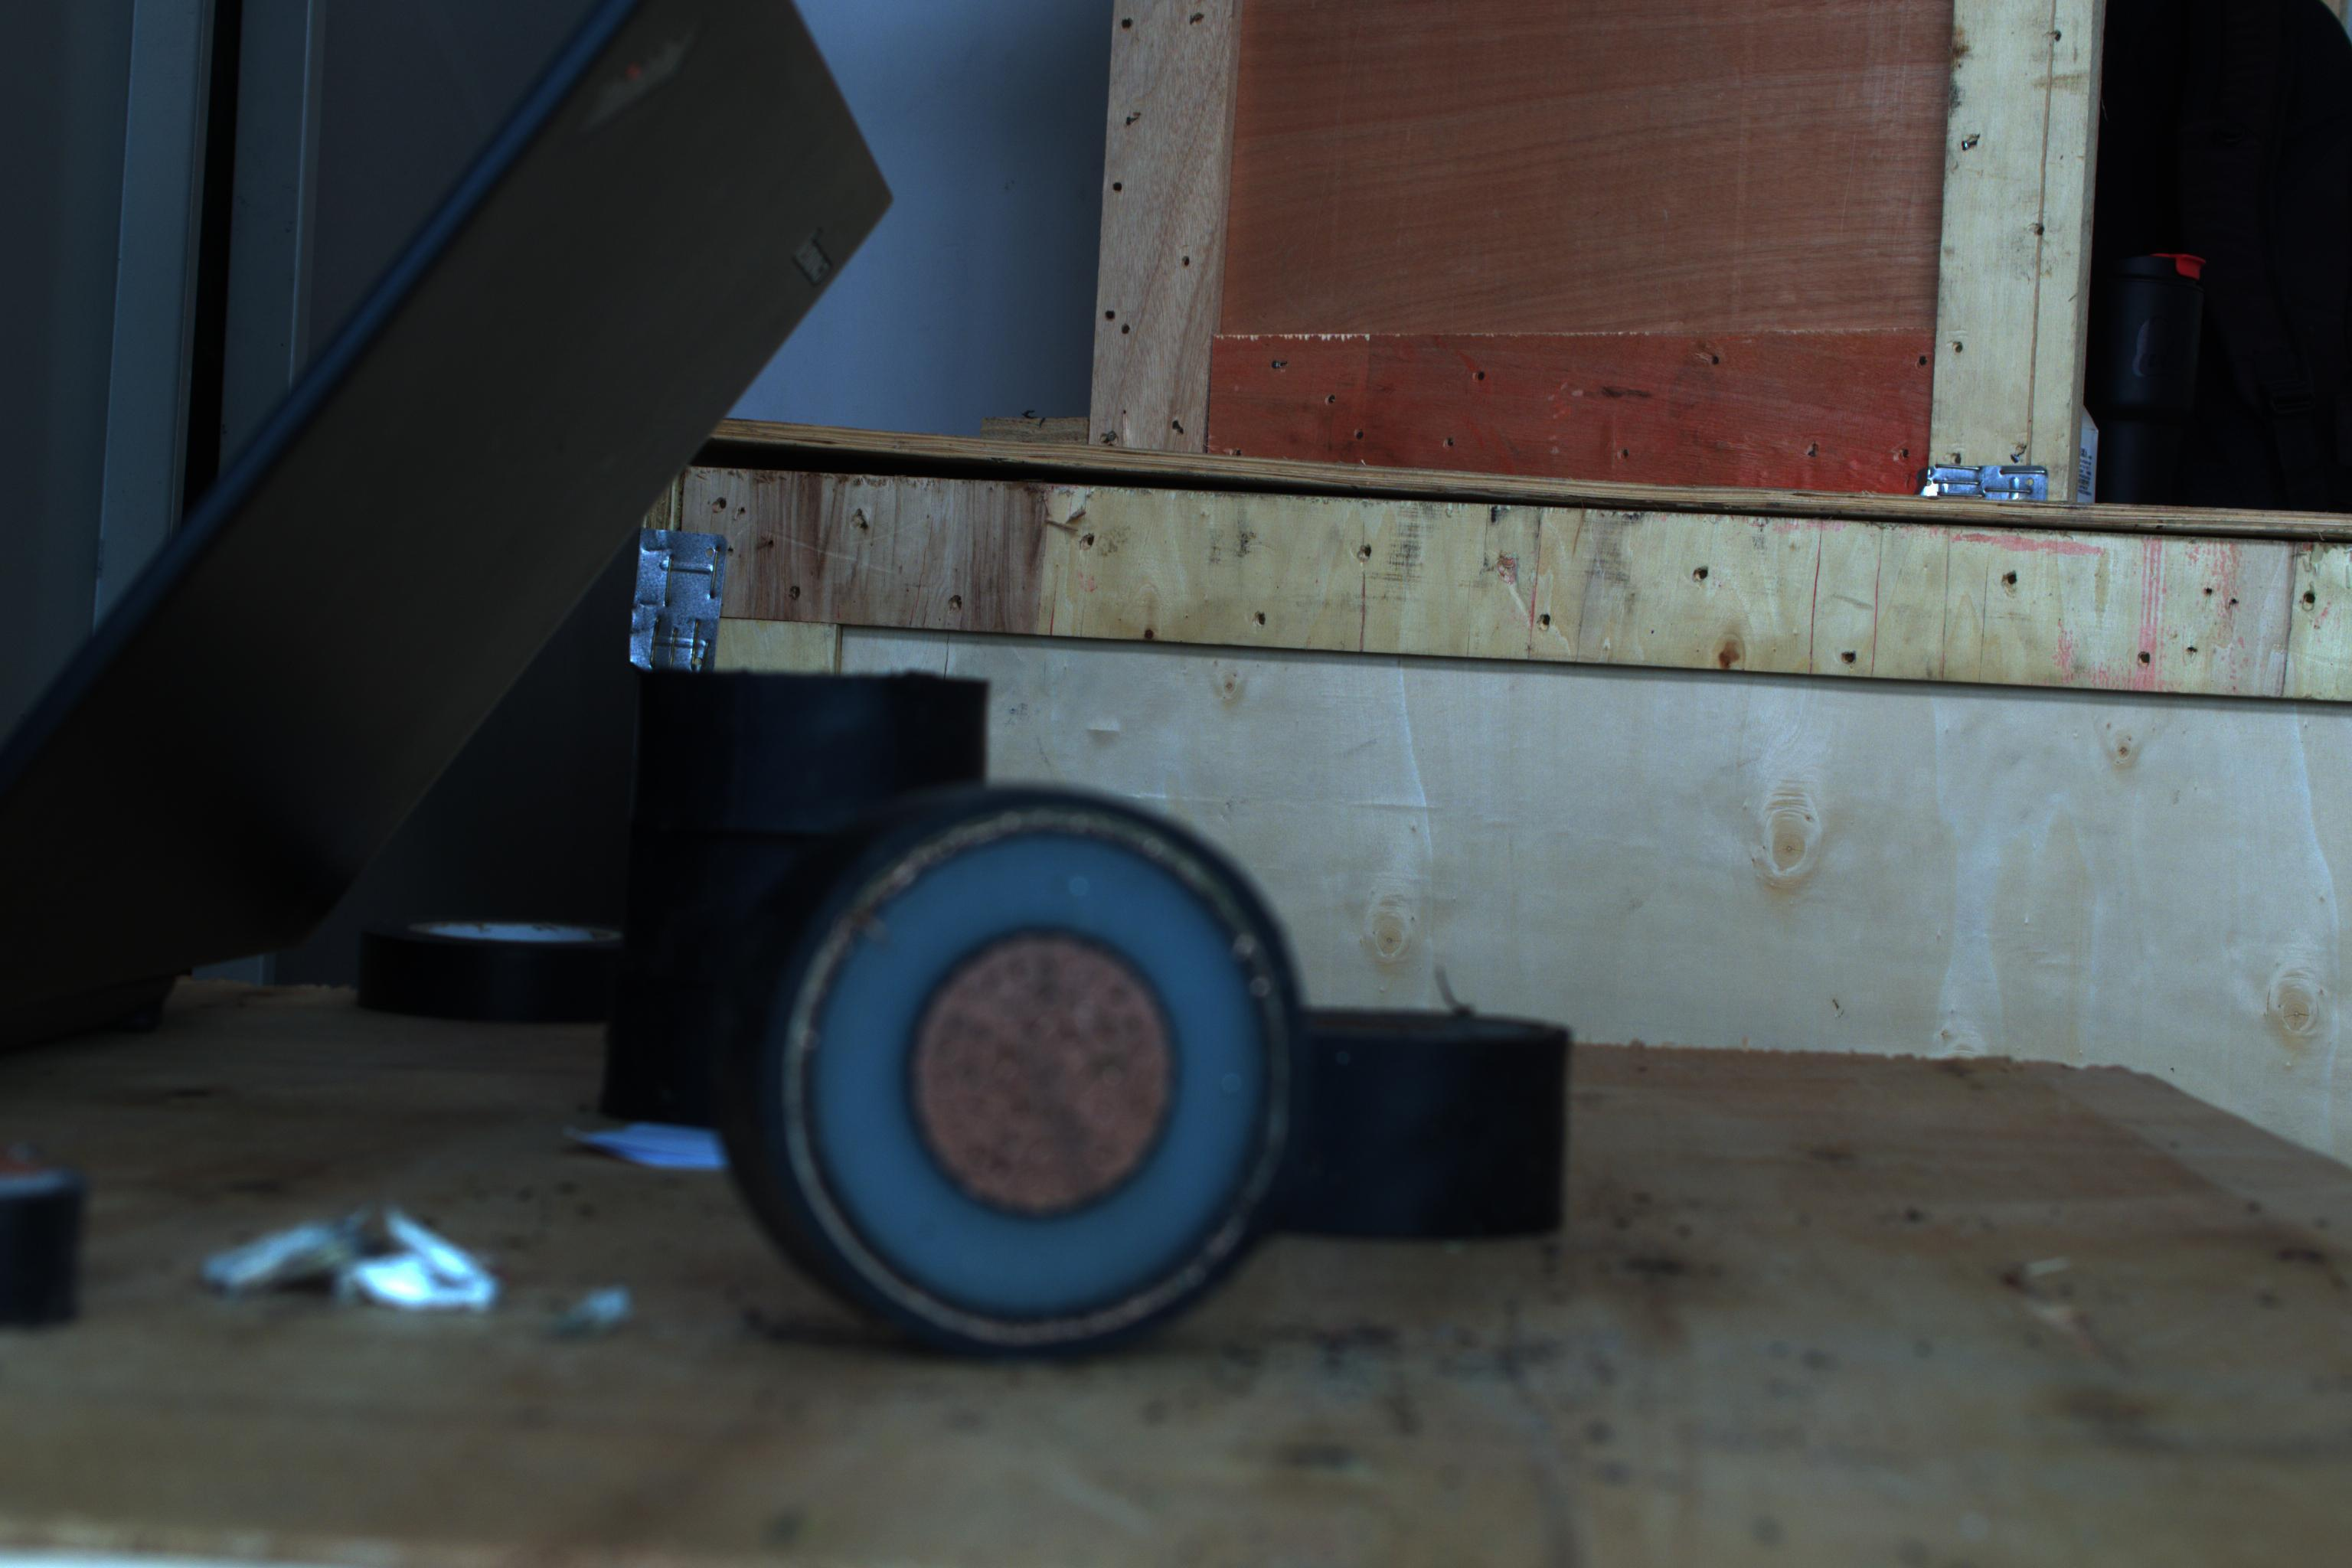YJV_26_35kV_1x630: (782, 763, 1319, 1344)
